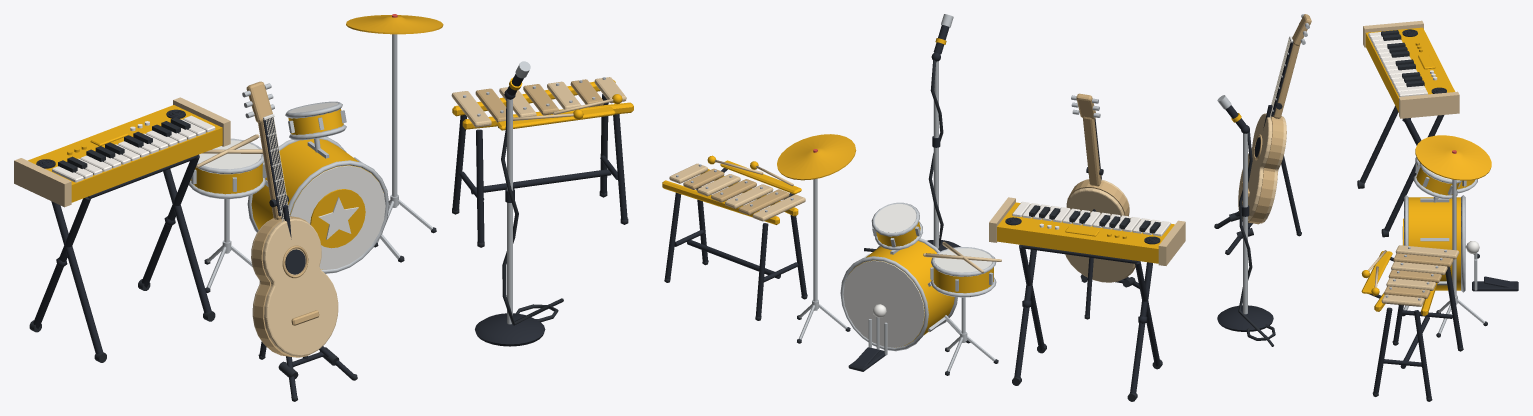
File: banda-moderna.glb
3 views of the same model, side by side, from view 1: azimuth 30°, elevation 25°; view 2: azimuth 150°, elevation 25°; view 3: azimuth 270°, elevation 25° (orthographic). The views are drawn at different scales.
Parts seen in each view (by area): view 1: bateria, teclado, violao, xilofone, microfone; view 2: bateria, teclado, xilofone, violao, microfone; view 3: bateria, teclado, xilofone, violao, microfone.
Boxes of the visible parts, x1,y1,x2,y2 form: bateria: (188, 14, 443, 292); teclado: (14, 97, 230, 362); violao: (242, 81, 357, 401); xilofone: (451, 77, 633, 247); microfone: (475, 61, 563, 346); bateria: (777, 134, 1001, 375); teclado: (989, 197, 1185, 401); xilofone: (662, 155, 807, 320); violao: (1065, 93, 1139, 319); microfone: (864, 14, 960, 251); bateria: (1402, 135, 1518, 337); teclado: (1357, 20, 1459, 237); xilofone: (1361, 245, 1463, 401); violao: (1214, 14, 1311, 254); microfone: (1217, 95, 1275, 346).
Bounding box in the file's own units: 2.86 × 1.27 × 1.56.
